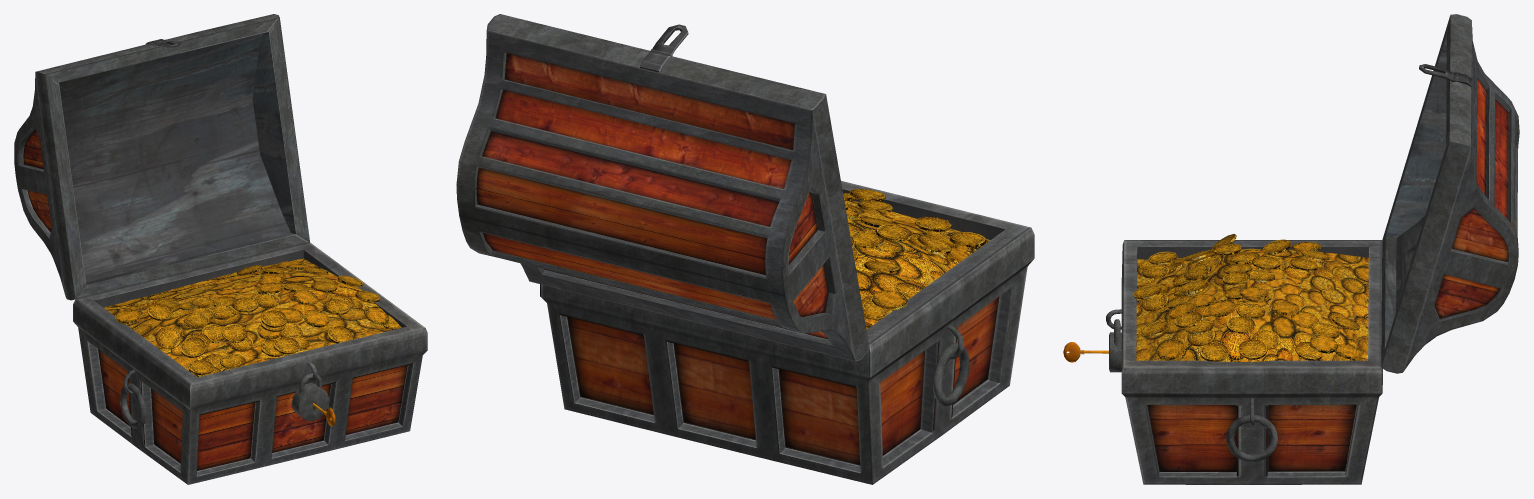
File: Chest gold2.FBX
The picture shows the model from 3 angles, left to right: view 1: azimuth 30°, elevation 25°; view 2: azimuth 150°, elevation 25°; view 3: azimuth 270°, elevation 25°; orthographic projection. The views are drawn at different scales.
Visible parts, largest first — view 1: chest gold 2; view 2: chest gold 2; view 3: chest gold 2.
Part boxes in pixels (x1,y1,x2,y2): chest gold 2: [14, 14, 427, 484]; chest gold 2: [456, 14, 1034, 484]; chest gold 2: [1063, 14, 1519, 484].
Bounding box in the file's own units: 179 × 217 × 250.
5 materials, 5 textured.
